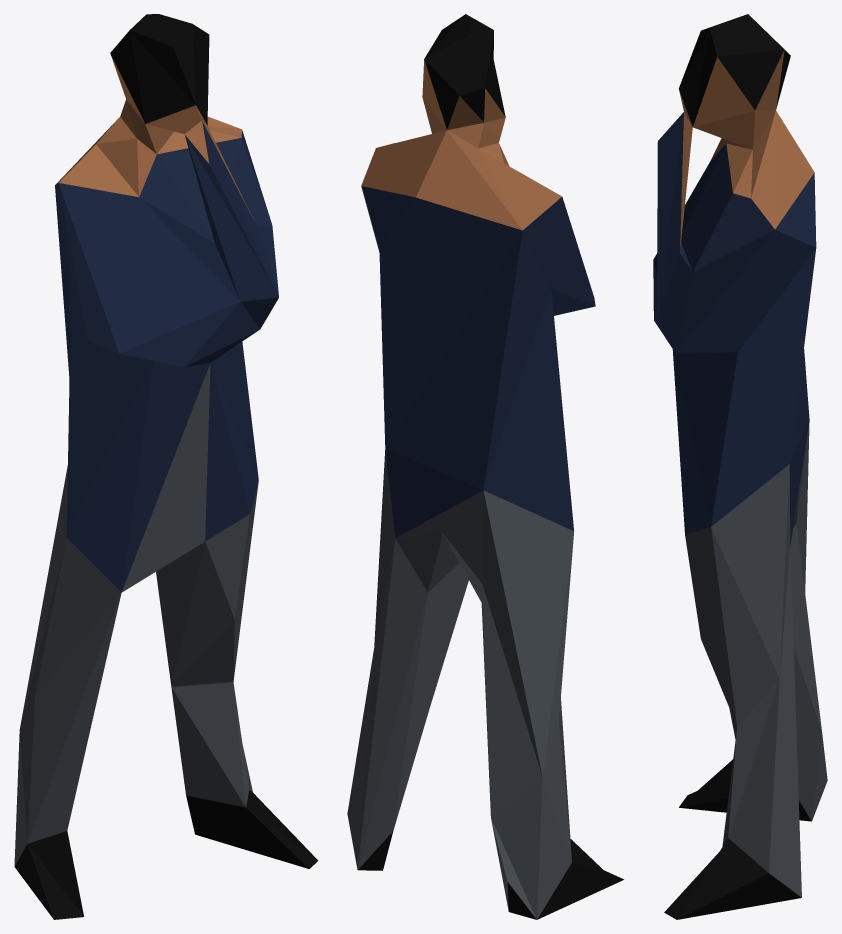
File: walker-24.glb
The picture shows the model from 3 angles, left to right: view 1: azimuth 30°, elevation 25°; view 2: azimuth 150°, elevation 25°; view 3: azimuth 270°, elevation 25°; orthographic projection.
Parts seen in each view (by area): view 1: Man03; view 2: Man03; view 3: Man03.
Boxes of the visible parts, box(x1,y1,x2,y2) form: Man03: box(14, 14, 318, 919); Man03: box(347, 14, 623, 919); Man03: box(653, 14, 827, 919).
Bounding box in the file's own units: 0.5101 × 1.61 × 0.3017.
